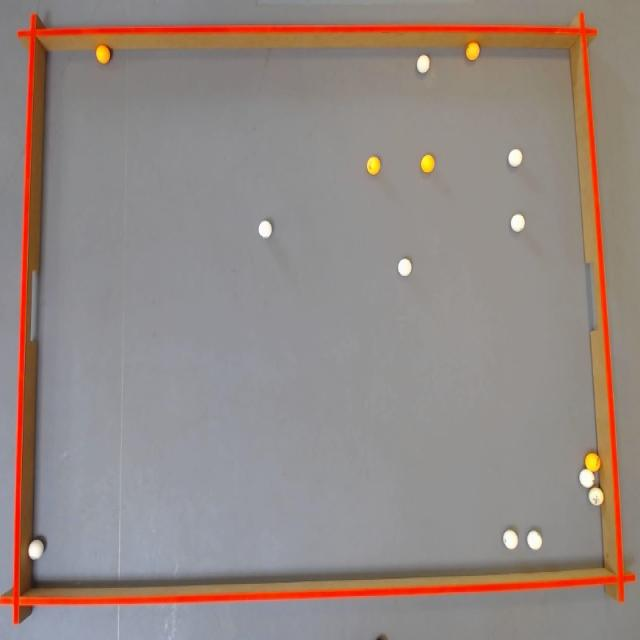orange_ball: (584, 452, 600, 472), (96, 44, 110, 64), (421, 154, 435, 173), (466, 42, 480, 60), (367, 156, 380, 174)
white_ball: (28, 538, 44, 560), (588, 486, 604, 506), (579, 468, 595, 488), (527, 530, 542, 551), (503, 529, 518, 550), (416, 54, 429, 74), (508, 149, 522, 167), (511, 214, 525, 232), (258, 221, 272, 238), (398, 258, 411, 276)
